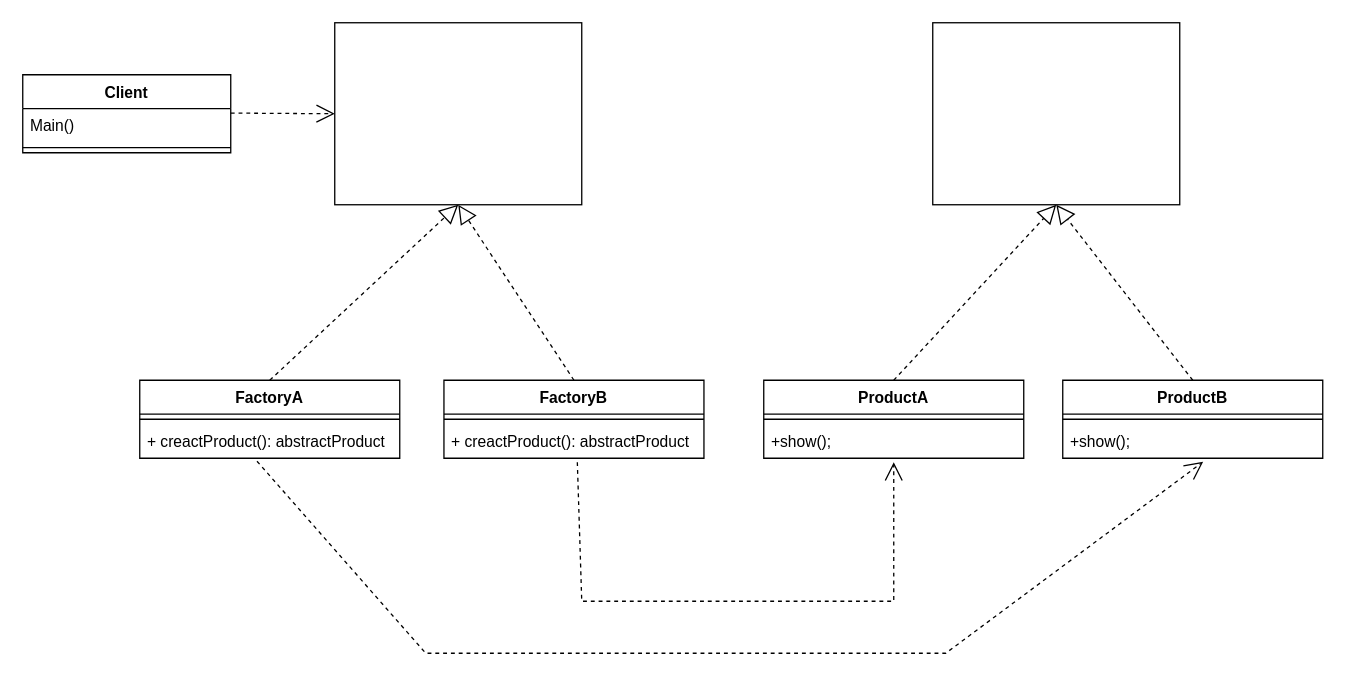
The diagram is 1346 pixels wide and 694 high, and some of its shapes have lost their labels. The shapes that lost their labels are listed below. From the top down, each one's centre as x and y in pixels, then its label:
At (x=457, y=113): "«interface» abstractFactory + creactProduct(): abstractProduct".
At (x=1055, y=113): "«interface» abstractProduct +show();".
